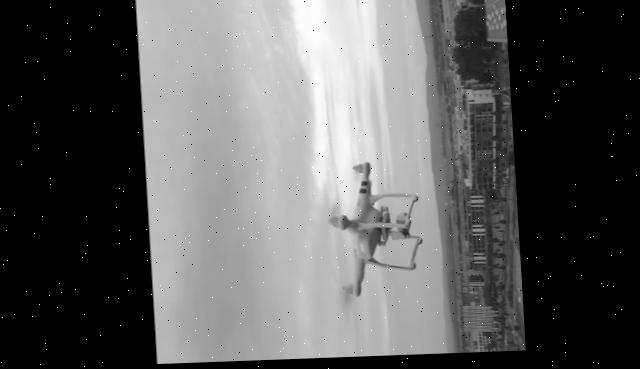drone: (321, 159, 424, 301)
